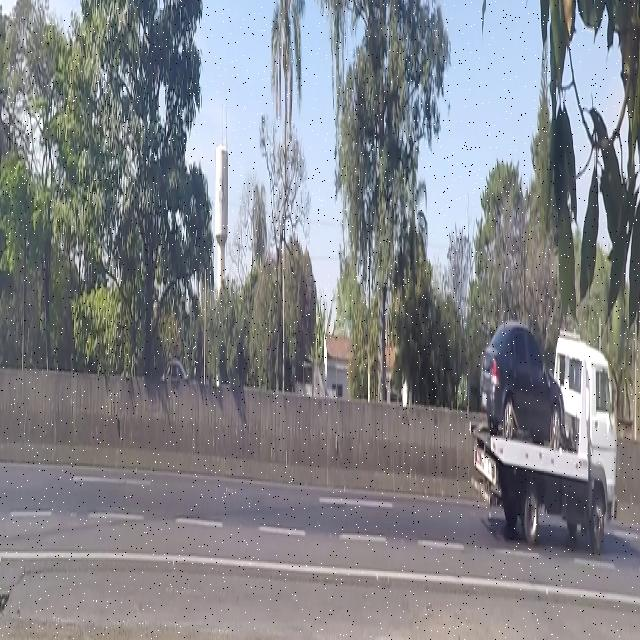-axle: (522, 483, 542, 549), (590, 488, 605, 553)
